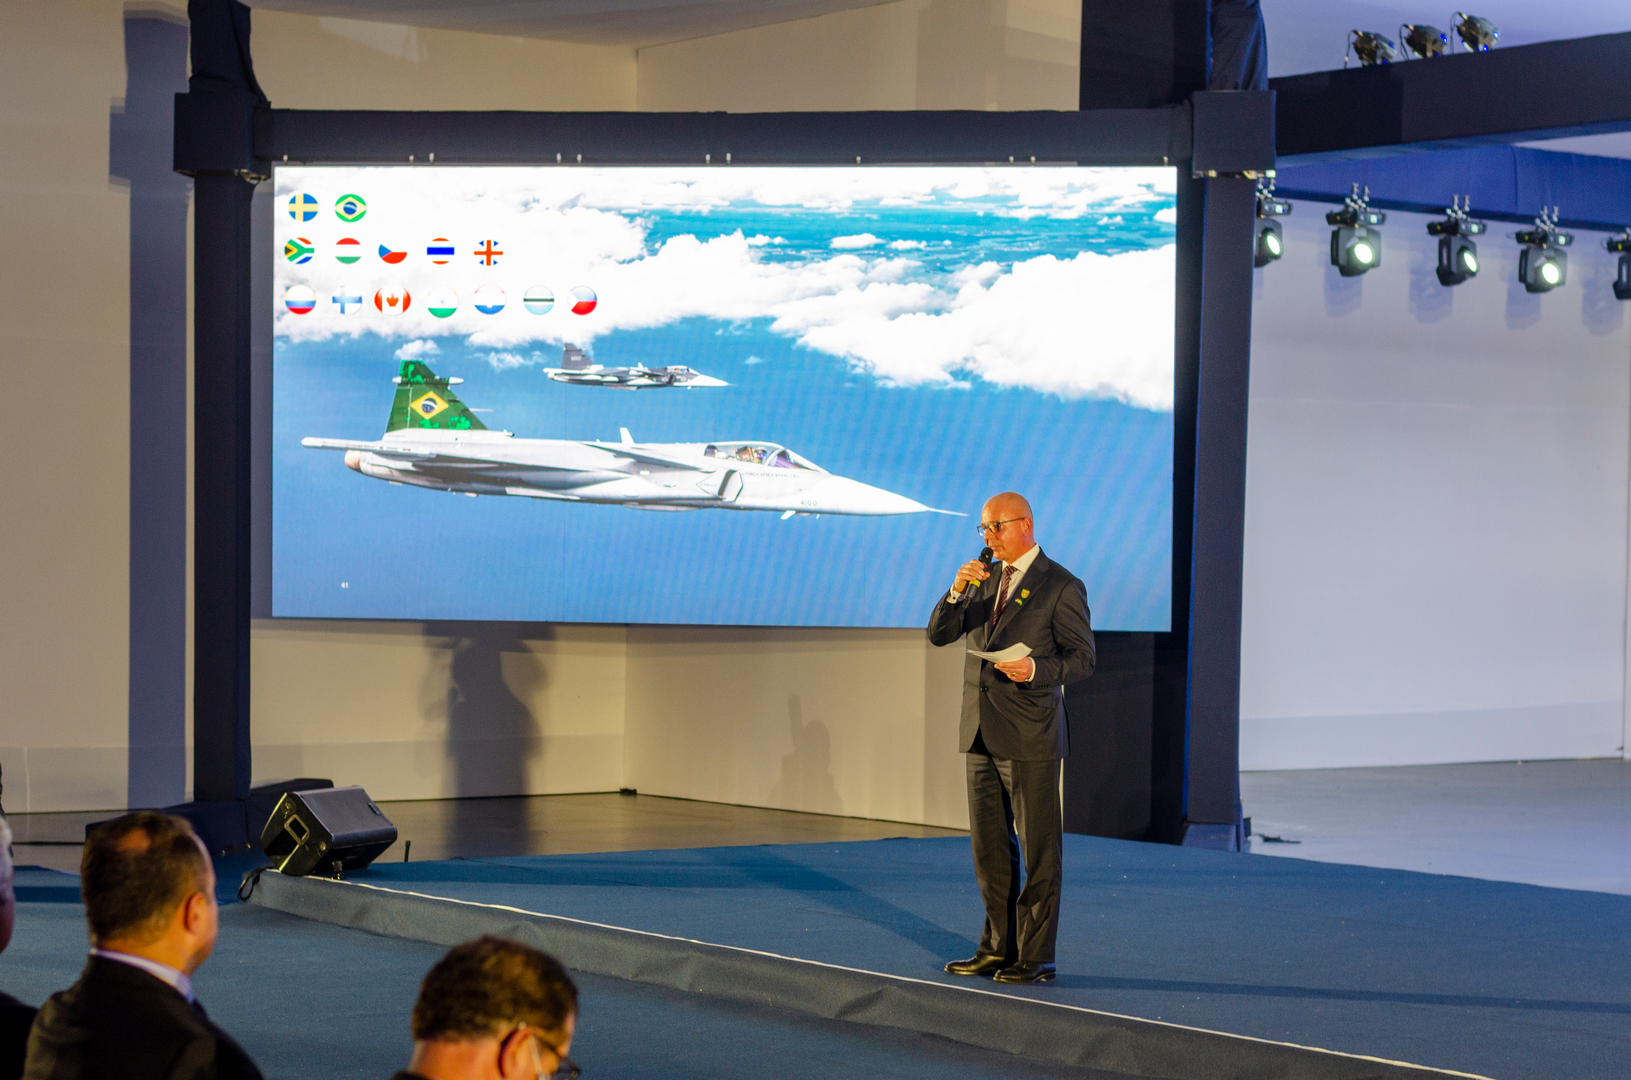JAS39: (301, 359, 970, 520), (542, 341, 739, 391)
